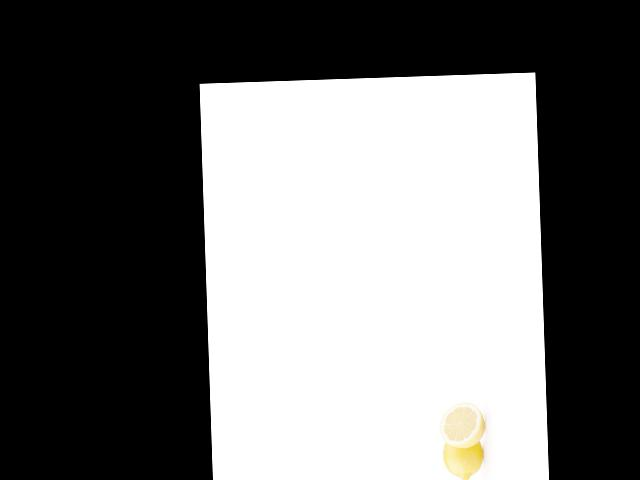lemon: (439, 438, 488, 480)
